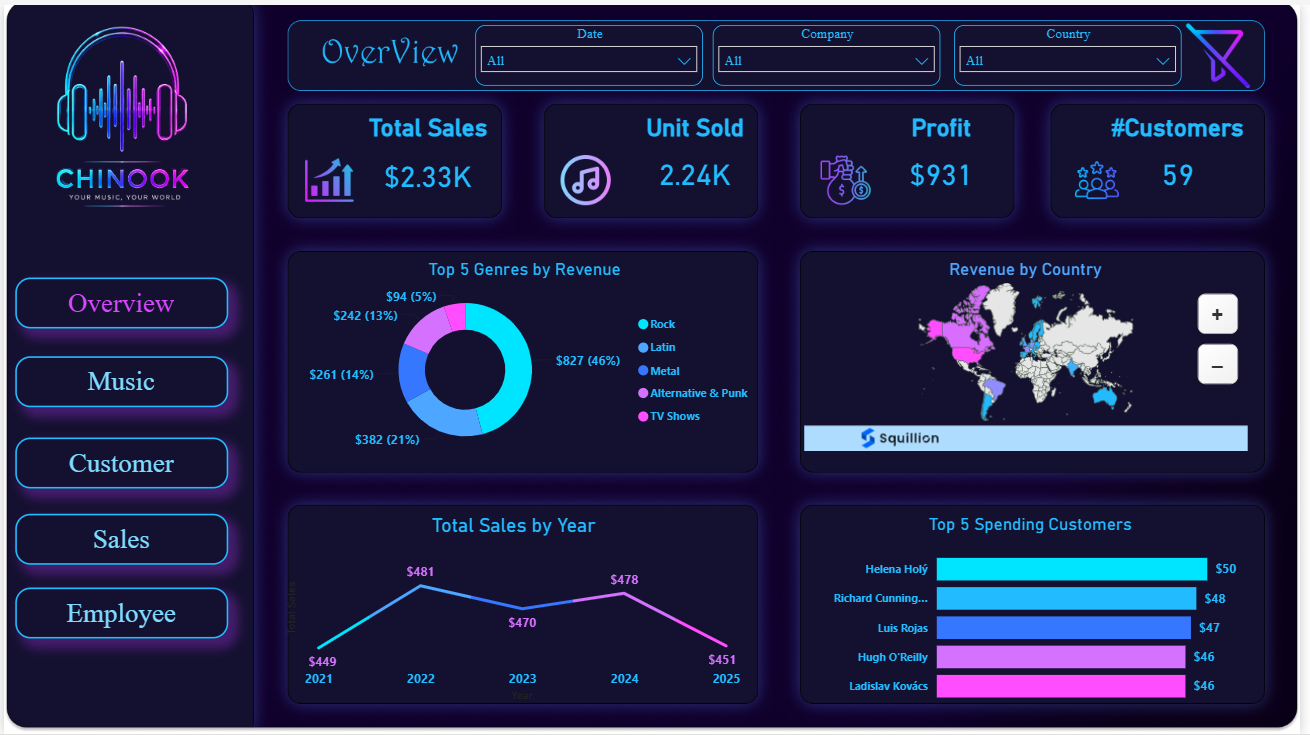

Layout of this report page (visuals, bound fields, positions):
{"tool":"powerbi","page":{"name":"OverView","canvas":[1280,720],"ordinal":0},"visuals":[{"type":"image","box":[0,0,234.6,227.8],"z":0},{"type":"card","title":"Total Sales","fields":{"Values":["Dax.Total Sales"]},"box":[334.8,107,168.8,94.7],"z":1000},{"type":"image","box":[292.3,148.2,57.6,49.4],"z":2000},{"type":"actionButton","title":" Overview","box":[11,269,210,50],"z":3000},{"type":"card","title":"Unit Sold","fields":{"Values":["Dax.Total Quantity"]},"box":[603.8,107,157.8,90.6],"z":4000},{"type":"image","box":[546.1,148.2,57.6,49.4],"z":5000},{"type":"card","title":"Profit","fields":{"Values":["Dax.Total Profit"]},"box":[846.7,107,157.8,90.6],"z":6000},{"type":"image","box":[802.7,148.2,57.6,49.4],"z":7000},{"type":"card","title":"#Customers","fields":{"Values":["Dax.Total Customers"]},"box":[1079.9,107,157.8,90.6],"z":8000},{"type":"image","box":[1051.1,148.2,57.6,49.4],"z":9000},{"type":"lineChart","fields":{"Y":["Dax.Total Sales"],"Category":["DateDim.Year"]},"box":[274.4,502.2,458.3,190.7],"z":10000},{"type":"actionButton","title":"Music","box":[11,347.2,210,50],"z":11000},{"type":"actionButton","title":"Customer","box":[11,426.8,210,50],"z":12000},{"type":"actionButton","title":"Sales","box":[11,502.2,210,50],"z":13000},{"type":"actionButton","title":"Employee","box":[11,575,210,50],"z":14000},{"type":"donutChart","title":"Top 5 Genres by Revenue","fields":{"Category":["Top 5 Genres.Genre"],"Y":["Sum(Top 5 Genres.TotalSales)"]},"box":[279.9,251.1,467.9,200.3],"z":15000},{"type":"clusteredBarChart","title":"Top 5 Spending Customers","fields":{"Category":["Top 5 Customers.CustomerName"],"Y":["Sum(Top 5 Customers.TotalSales)"]},"box":[802.3,501.9,422.3,199.1],"z":16000},{"type":"MapBySquillion","title":"Revenue by Country","fields":{"category":["customer.Country"],"value":["Dax.Total Sales"]},"box":[784.9,251.1,447.3,194.9],"z":17000},{"type":"slicer","title":"Date","fields":{"Values":["DateDim.Year","DateDim.MonthName"]},"box":[465,20,225,60],"z":18000},{"type":"slicer","title":"Country","fields":{"Values":["customer.Country"]},"box":[938.8,20,225,60],"z":19000},{"type":"slicer","title":"Company","fields":{"Values":["customer.Company"]},"box":[700,20,225,60],"z":20000},{"type":"image","box":[1160.6,14.5,77.2,70],"z":21000}]}

Visuals, with their boxes in screenshot pixels (x1, y1, x2, y2), scaled from the page's 1280x720 canvas onto the 1310x735 screenshot:
image: (0,0,240,233)
"Total Sales" card: (343,109,515,206)
image: (299,151,358,202)
" Overview" actionButton: (11,275,226,326)
"Unit Sold" card: (618,109,779,202)
image: (559,151,618,202)
"Profit" card: (867,109,1028,202)
image: (822,151,880,202)
"#Customers" card: (1105,109,1267,202)
image: (1076,151,1135,202)
lineChart - Dax.Total Sales x DateDim.Year: (281,513,750,707)
"Music" actionButton: (11,354,226,405)
"Customer" actionButton: (11,436,226,487)
"Sales" actionButton: (11,513,226,564)
"Employee" actionButton: (11,587,226,638)
"Top 5 Genres by Revenue" donutChart: (286,256,765,461)
"Top 5 Spending Customers" clusteredBarChart: (821,512,1253,716)
"Revenue by Country" MapBySquillion: (803,256,1261,455)
"Date" slicer: (476,20,706,82)
"Country" slicer: (961,20,1191,82)
"Company" slicer: (716,20,947,82)
image: (1188,15,1267,86)
